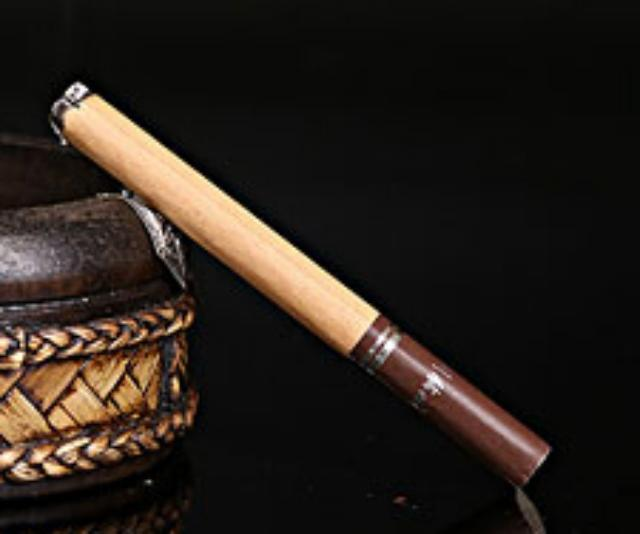Smoking: (52, 78, 550, 485)
